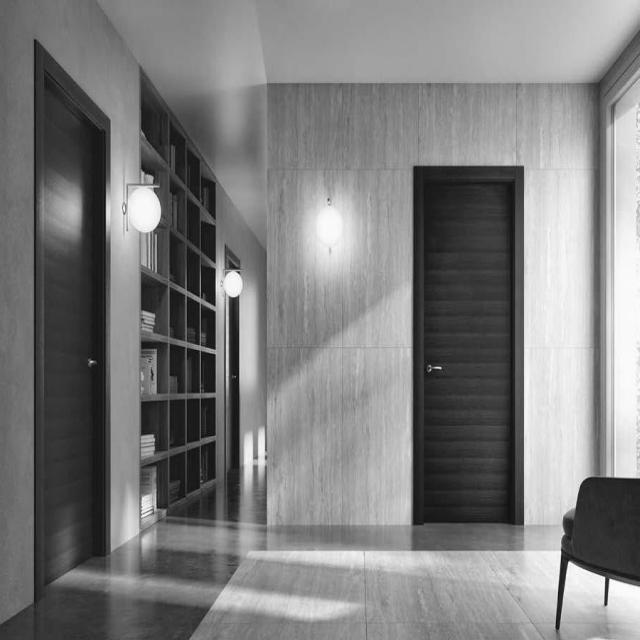door: (31, 32, 119, 608), (408, 156, 538, 543)
